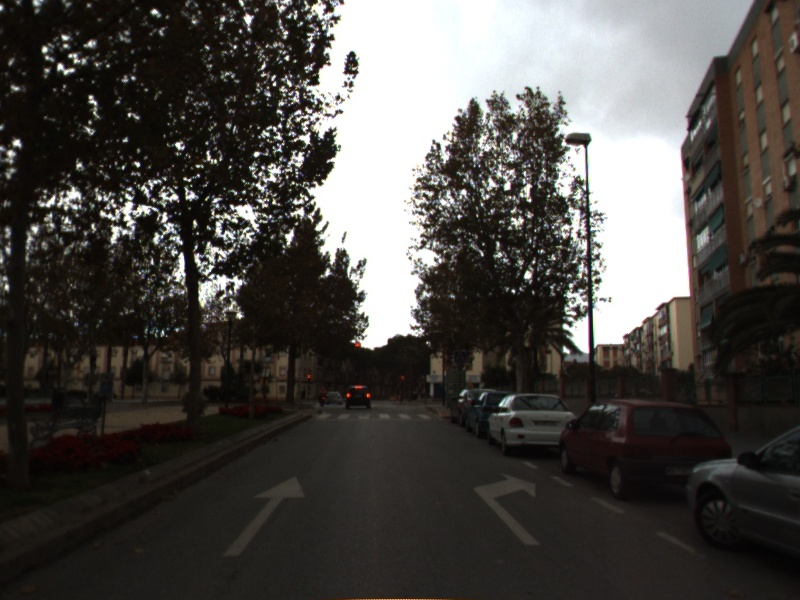RIGHT: (469, 468, 545, 548)
STRAIGHT: (220, 472, 309, 560)
